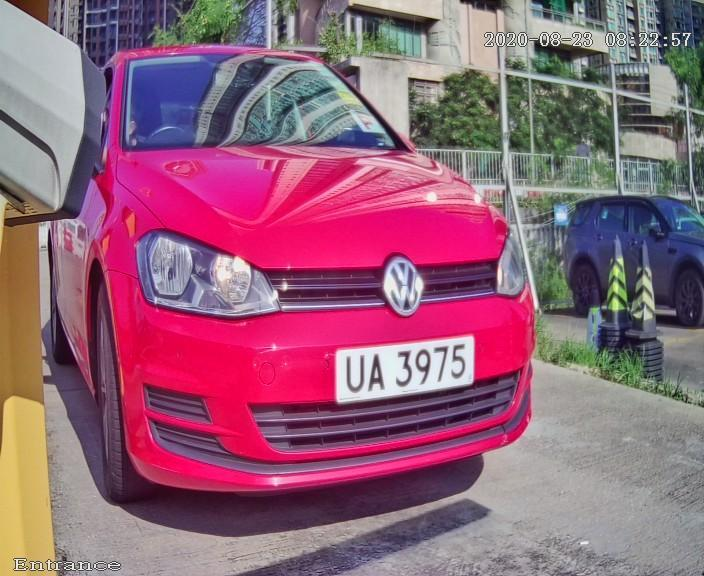Car: (13, 19, 604, 551)
License Plate: (327, 327, 484, 417)
